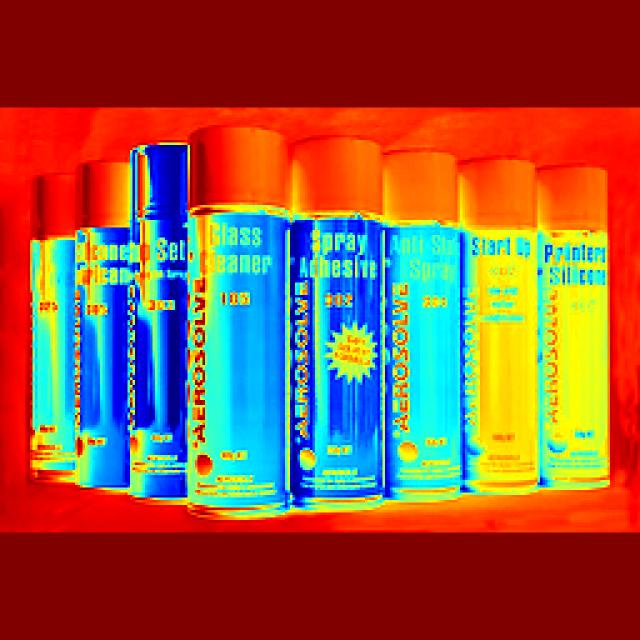Aerosol Cans: (188, 133, 292, 512), (294, 134, 385, 505), (384, 147, 468, 504), (538, 165, 614, 495), (70, 166, 129, 497)
